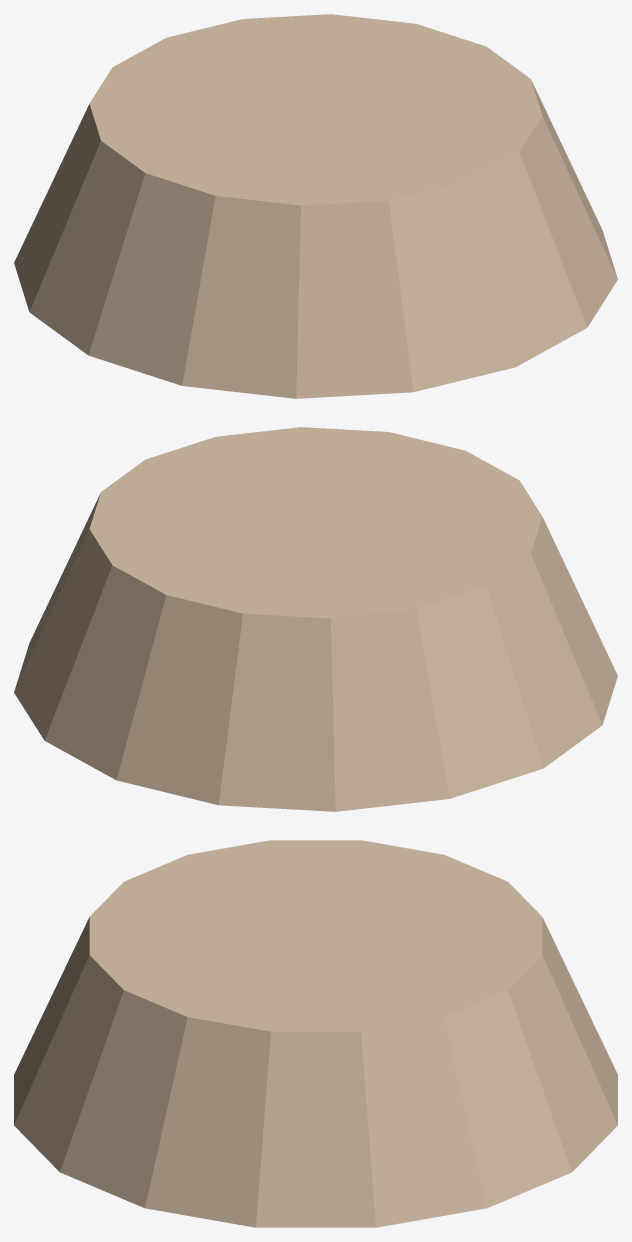
File: vega_adapter_s2_1_collider.obj
3 renders of one model, top to bottom at view 1: azimuth 30°, elevation 25°; view 2: azimuth 150°, elevation 25°; view 3: azimuth 270°, elevation 25°, orthographic.
Parts seen in each view (by area): view 1: collider; view 2: collider; view 3: collider.
Part boxes in pixels (x1,y1,x2,y2): collider: (14, 14, 617, 398); collider: (14, 427, 617, 811); collider: (14, 840, 617, 1227).
Bounding box in the file's own units: 2.5 × 0.75 × 2.5.
